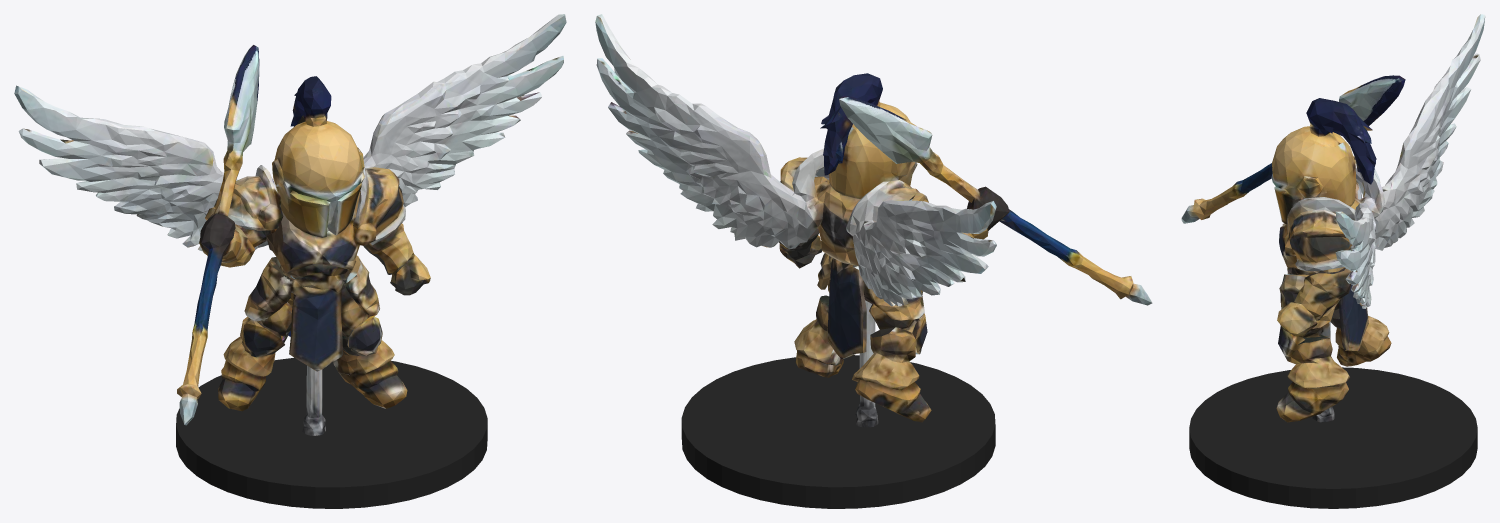
Rendered from sce-prosecutor.glb.
3 renders of one model, left to right at view 1: azimuth 30°, elevation 25°; view 2: azimuth 150°, elevation 25°; view 3: azimuth 270°, elevation 25°, orthographic. The views are drawn at different scales.
Visible parts, largest first — view 1: figure, base; view 2: figure, base; view 3: figure, base.
Boxes of the visible parts, x1,y1,x2,y2 form: figure: (14, 14, 566, 435); base: (176, 357, 487, 508); figure: (595, 14, 1152, 427); base: (681, 355, 995, 508); figure: (1181, 14, 1485, 422); base: (1189, 367, 1477, 508).
Size of the model in its own units: 2.76 by 2.12 by 1.66.
2 materials, 1 textured.
